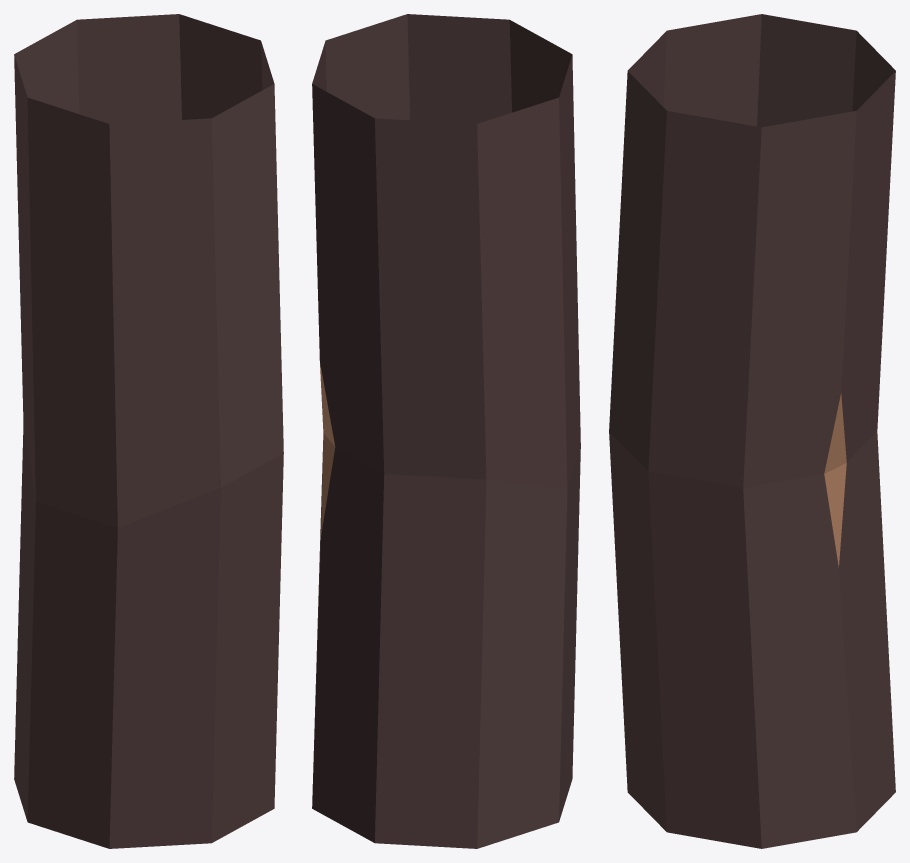
Rendered from wood_3.FBX.
3 views of the same model, side by side, from view 1: azimuth 30°, elevation 25°; view 2: azimuth 150°, elevation 25°; view 3: azimuth 270°, elevation 25° (orthographic).
Visible parts, largest first — view 1: wood_3; view 2: wood_3; view 3: wood_3.
Part boxes in pixels (bbox=[...]): wood_3: bbox=[14, 14, 283, 848]; wood_3: bbox=[312, 14, 580, 848]; wood_3: bbox=[609, 14, 895, 848].
Bounding box in the file's own units: 14.04 × 41.65 × 15.01.
